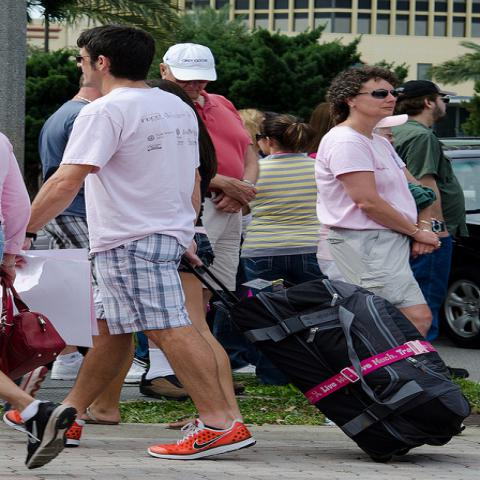car: (441, 143, 479, 346)
